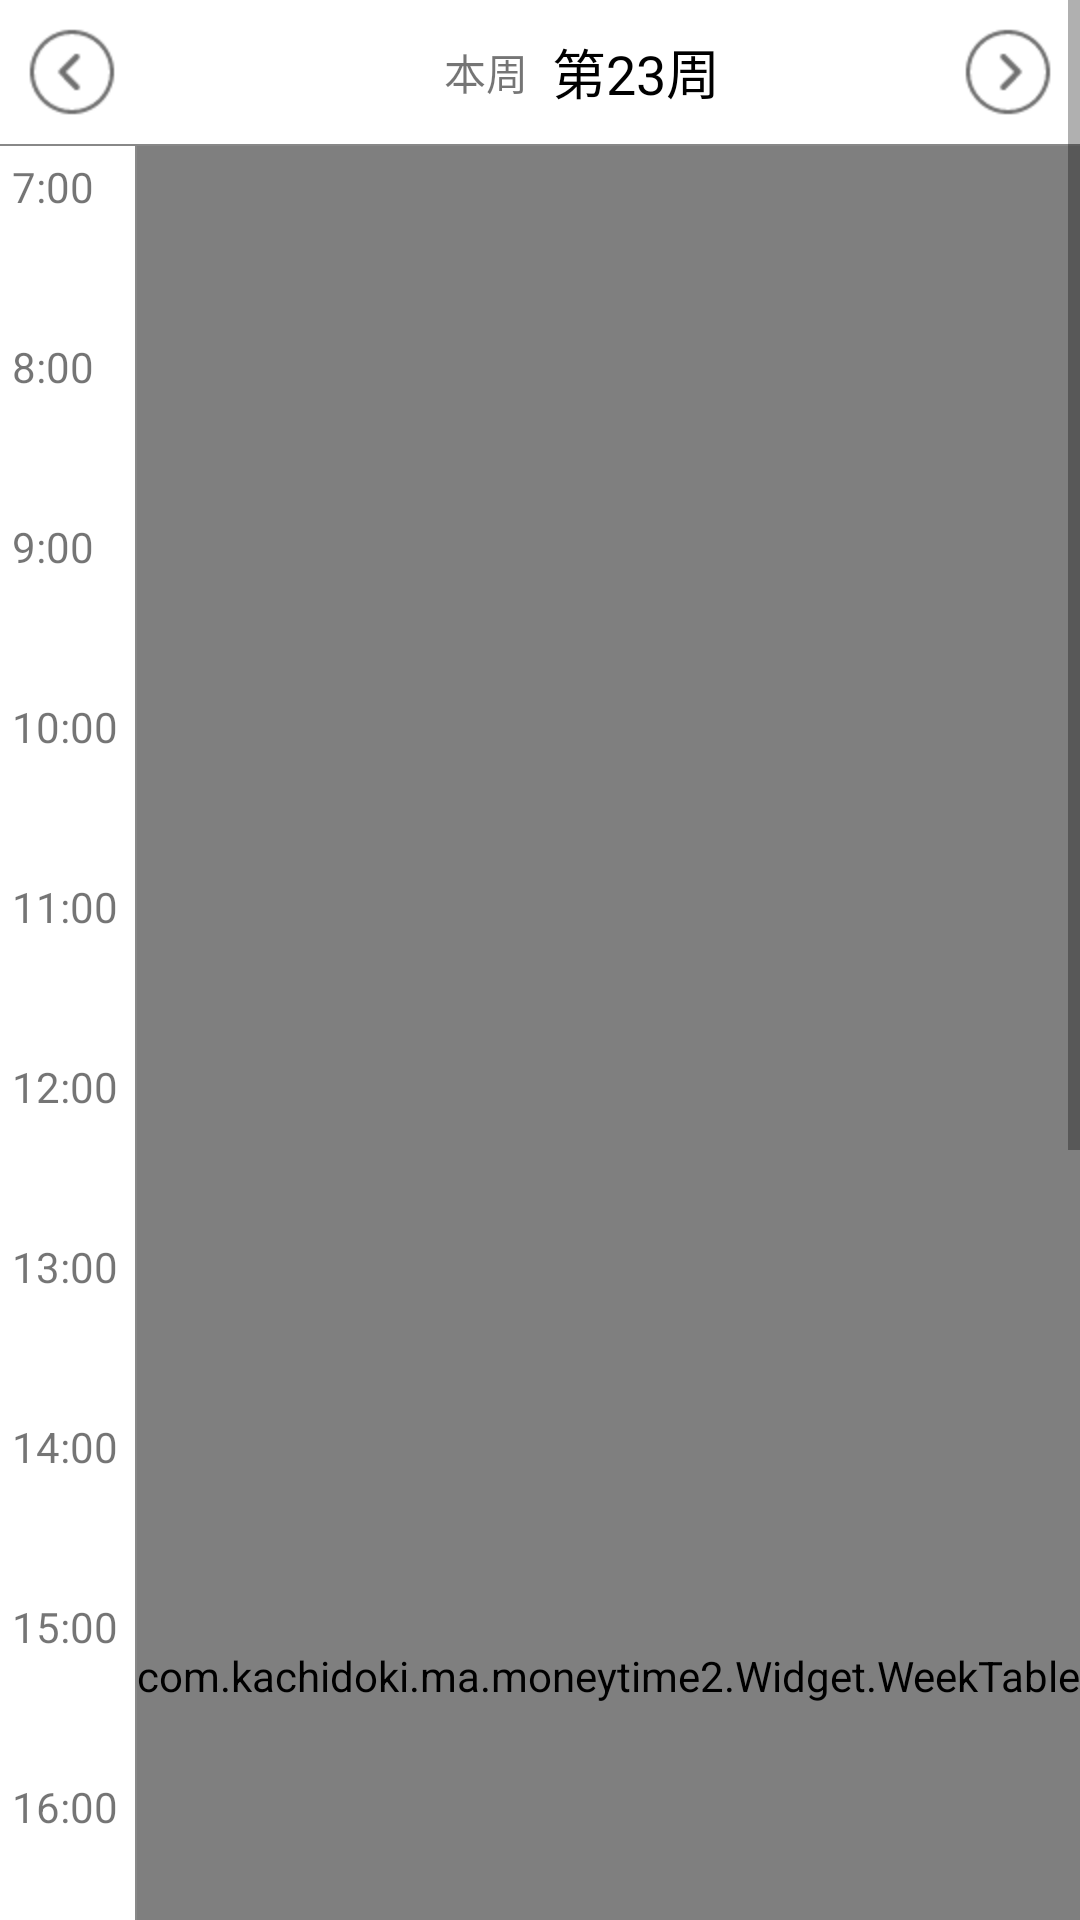

Icons on this 1080px×1920px Android screen, each with the point to tap as point (x, y):
front: point (72, 72)
next: point (1008, 72)
